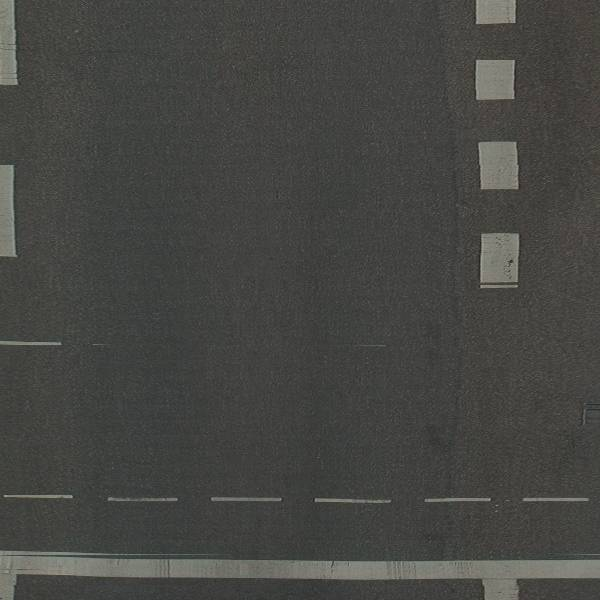road_damage: (434, 48, 473, 492)
